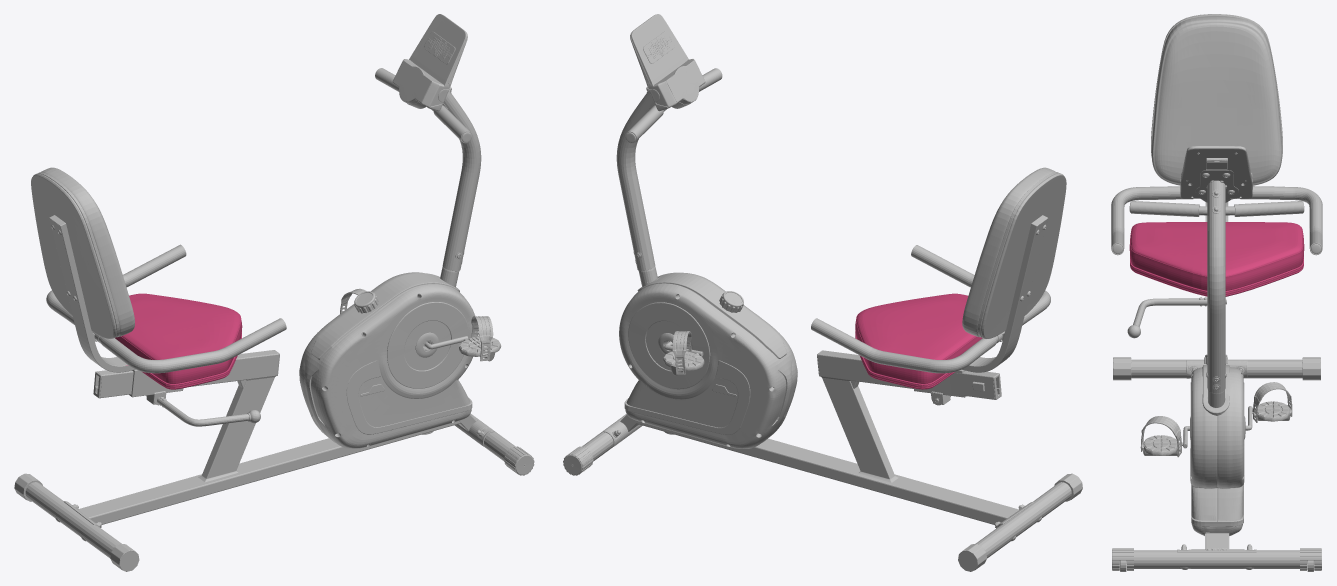
The model's file is interactive_18_1.glb.
The picture shows the model from 3 angles, left to right: view 1: azimuth 30°, elevation 25°; view 2: azimuth 150°, elevation 25°; view 3: azimuth 270°, elevation 25°; orthographic projection.
Parts seen in each view (by area): view 1: pred_target_mesh.ply; view 2: pred_target_mesh.ply; view 3: pred_target_mesh.ply.
Boxes of the visible parts, bbox=[...] form: pred_target_mesh.ply: bbox=[14, 14, 534, 571]; pred_target_mesh.ply: bbox=[563, 14, 1082, 571]; pred_target_mesh.ply: bbox=[1111, 14, 1322, 571].
Size of the model in its own units: 0.6992 by 0.6489 by 0.3002.
